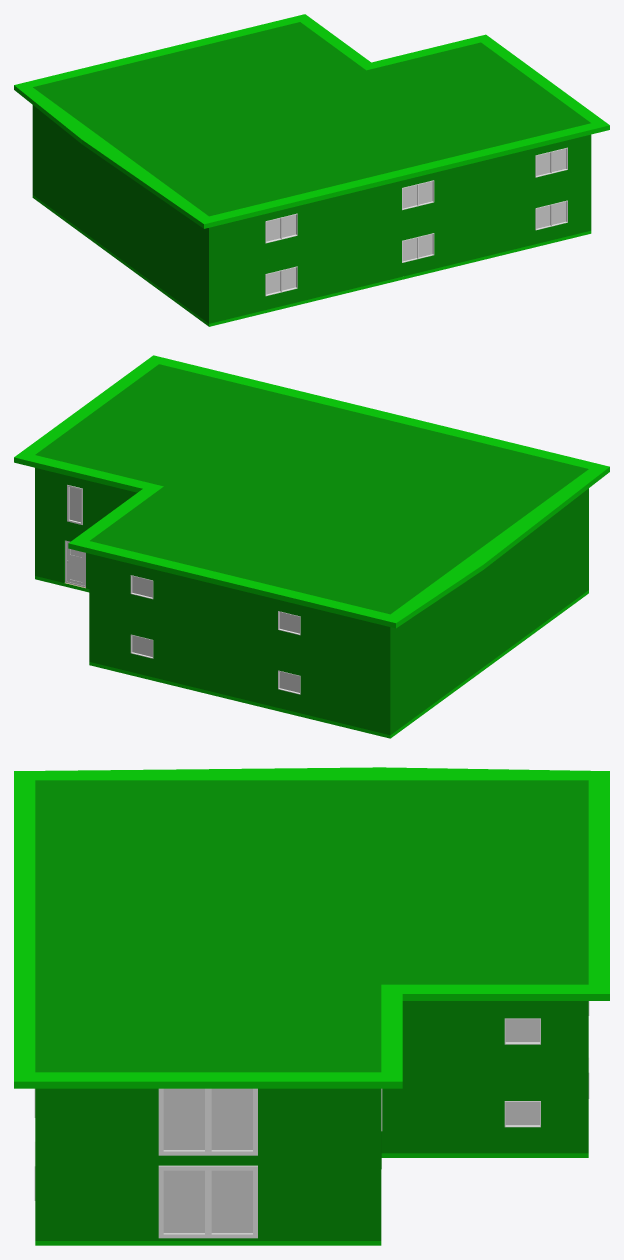
Rendered from House_5.fbx.
3 views of the same model, one above another, from view 1: azimuth 30°, elevation 25°; view 2: azimuth 150°, elevation 25°; view 3: azimuth 270°, elevation 25° (orthographic). The views are drawn at different scales.
Parts seen in each view (by area): view 1: House_5_Body; view 2: House_5_Body, House_5_Door.005; view 3: House_5_Body.
Part boxes in pixels (x1,y1,x2,y2): House_5_Body: (14,14,609,326); House_5_Body: (14,355,609,738); House_5_Door.005: (65,540,85,587); House_5_Body: (14,767,609,1245).
Bounding box in the file's own units: 2148 × 552 × 1723.
